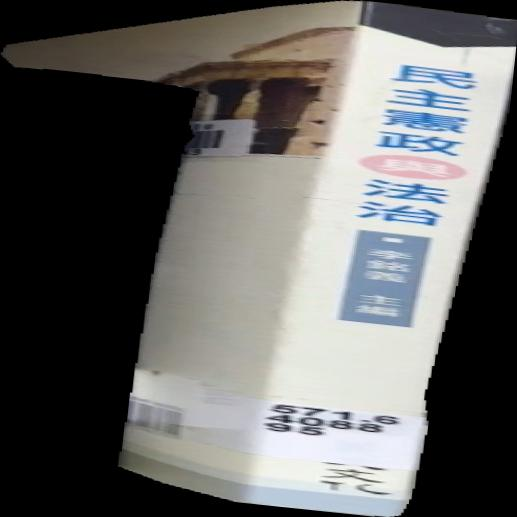book: (1, 1, 517, 517)
